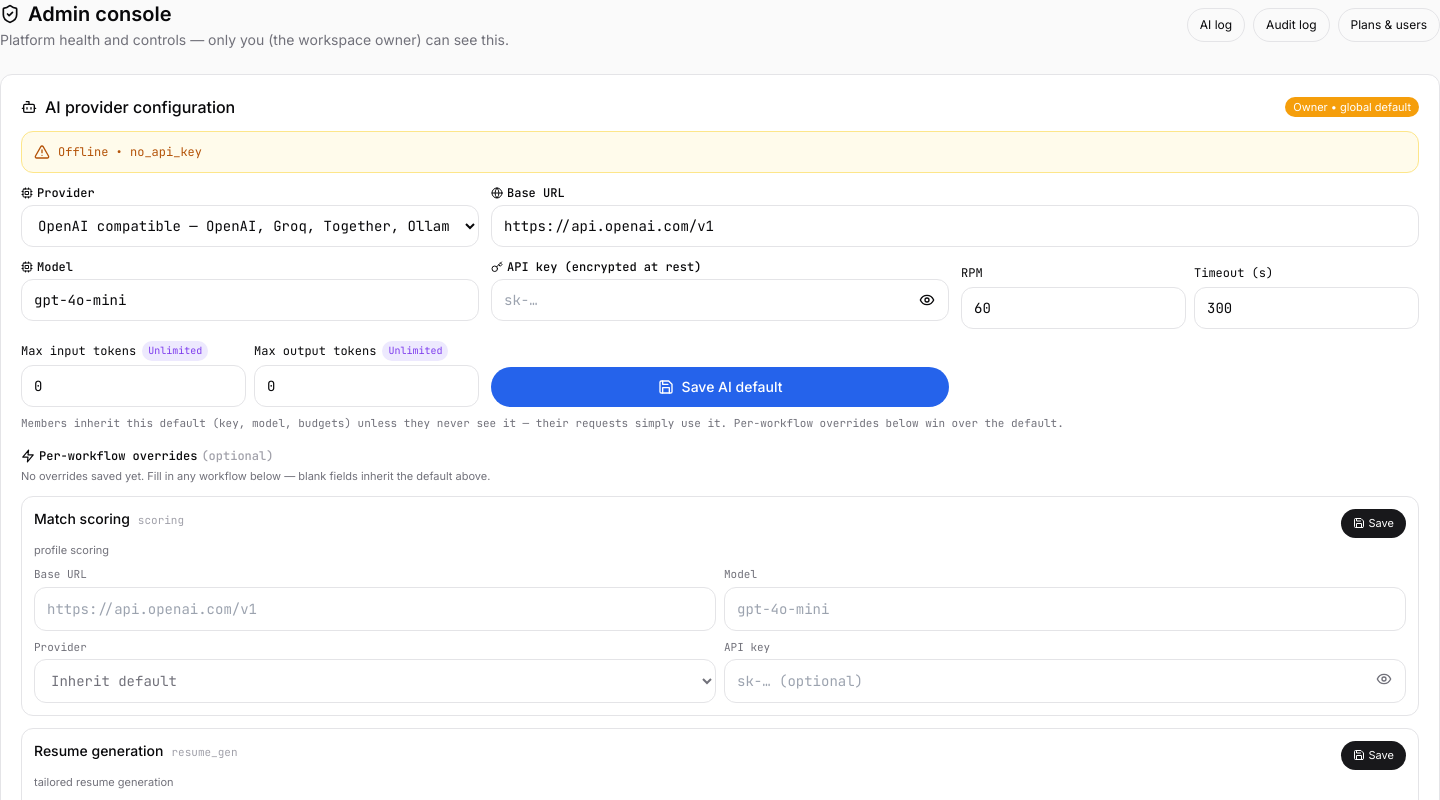
Test case: Admin console: per-workflow overrides › posts the filled override and reloads it as saved
Check: the field named "Model for scoring" is shown, box [724,586,1406,630]
Type "https://api.groq.com/openai/v1" into the field named "Base URL for scoring" at (375, 608), box [34,586,716,630]
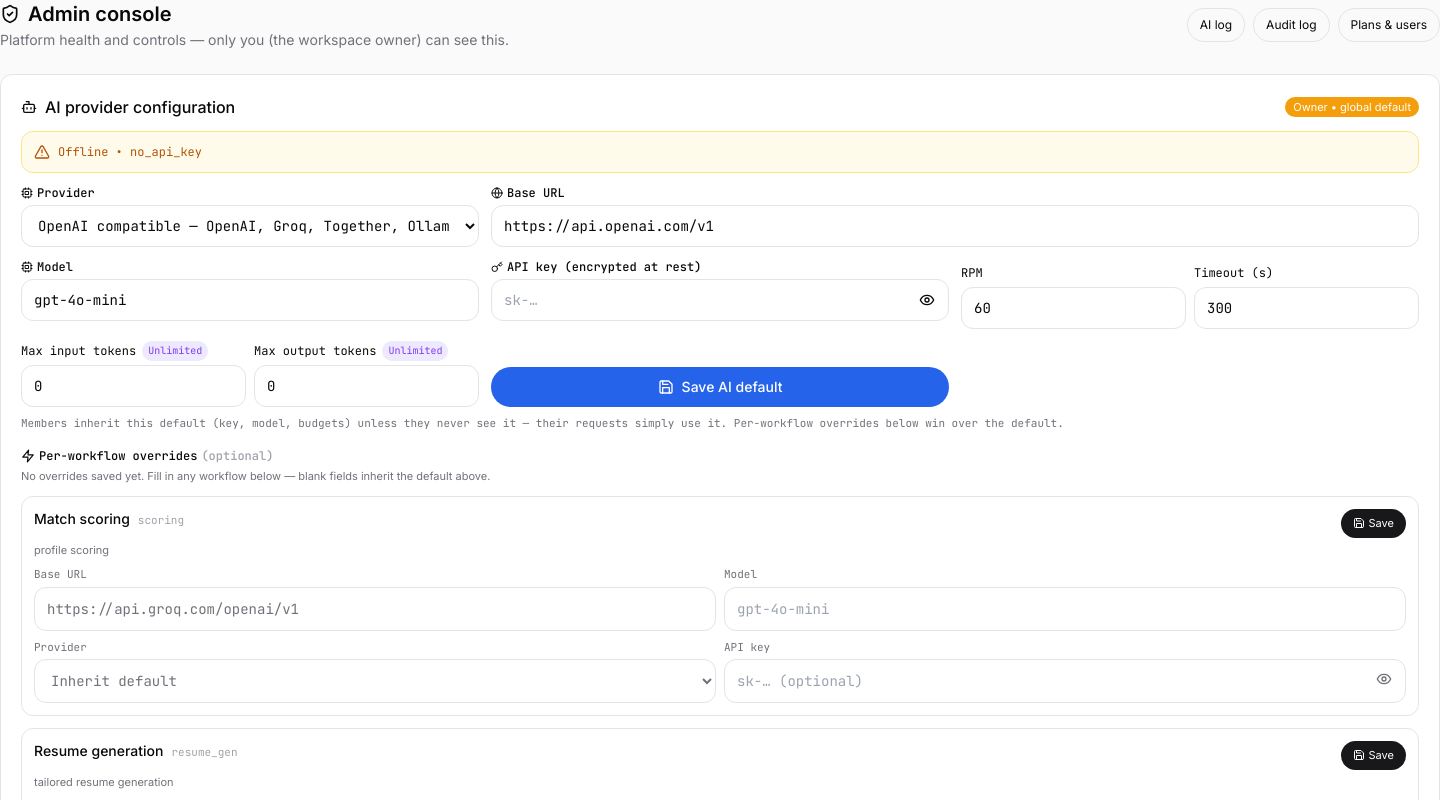
Type "llama-3.1-70b" into the field named "Model for scoring" at (1065, 608), box [724,586,1406,630]
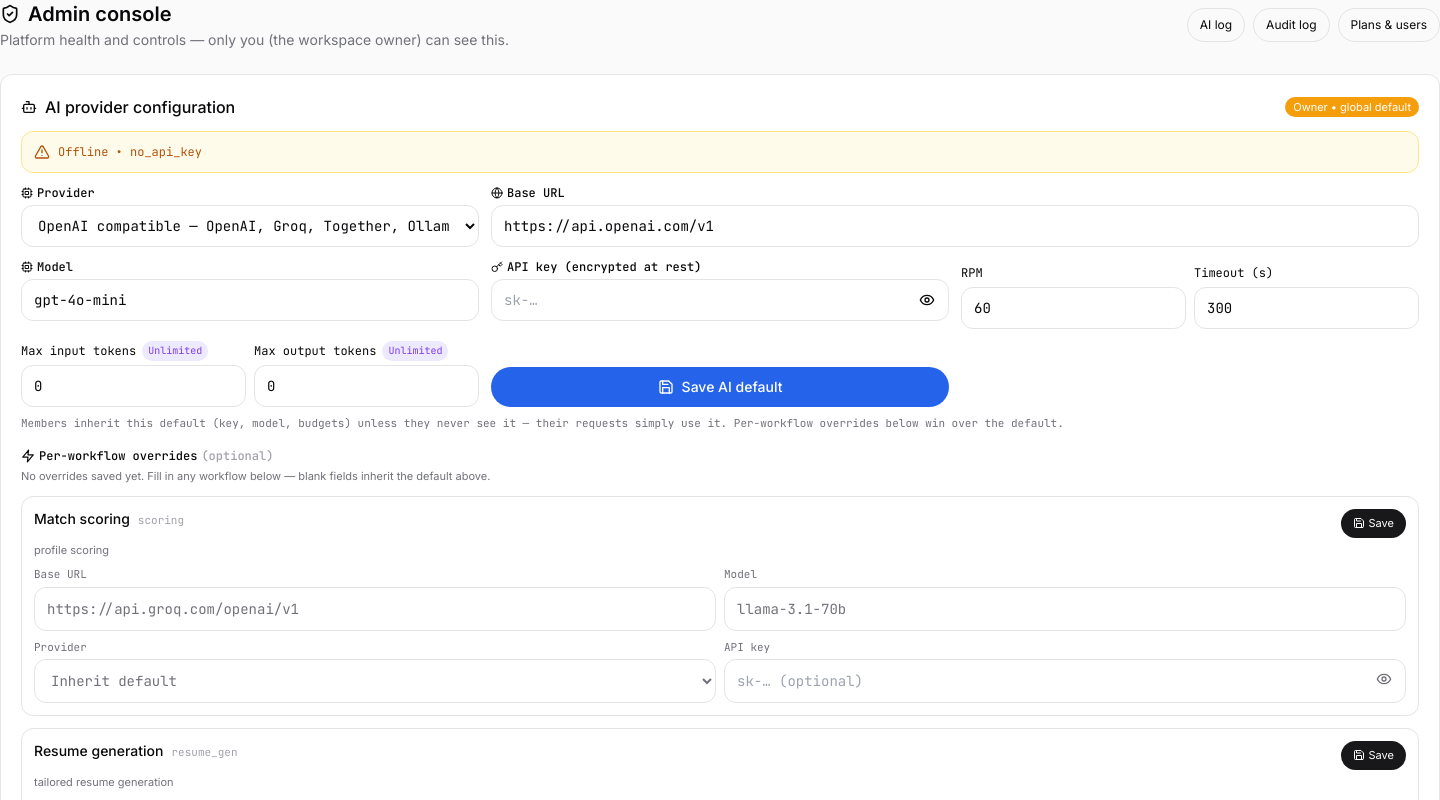
Select "OpenAI compatible" in the dropdown named "Provider for scoring" at (375, 681), box [34,659,716,703]
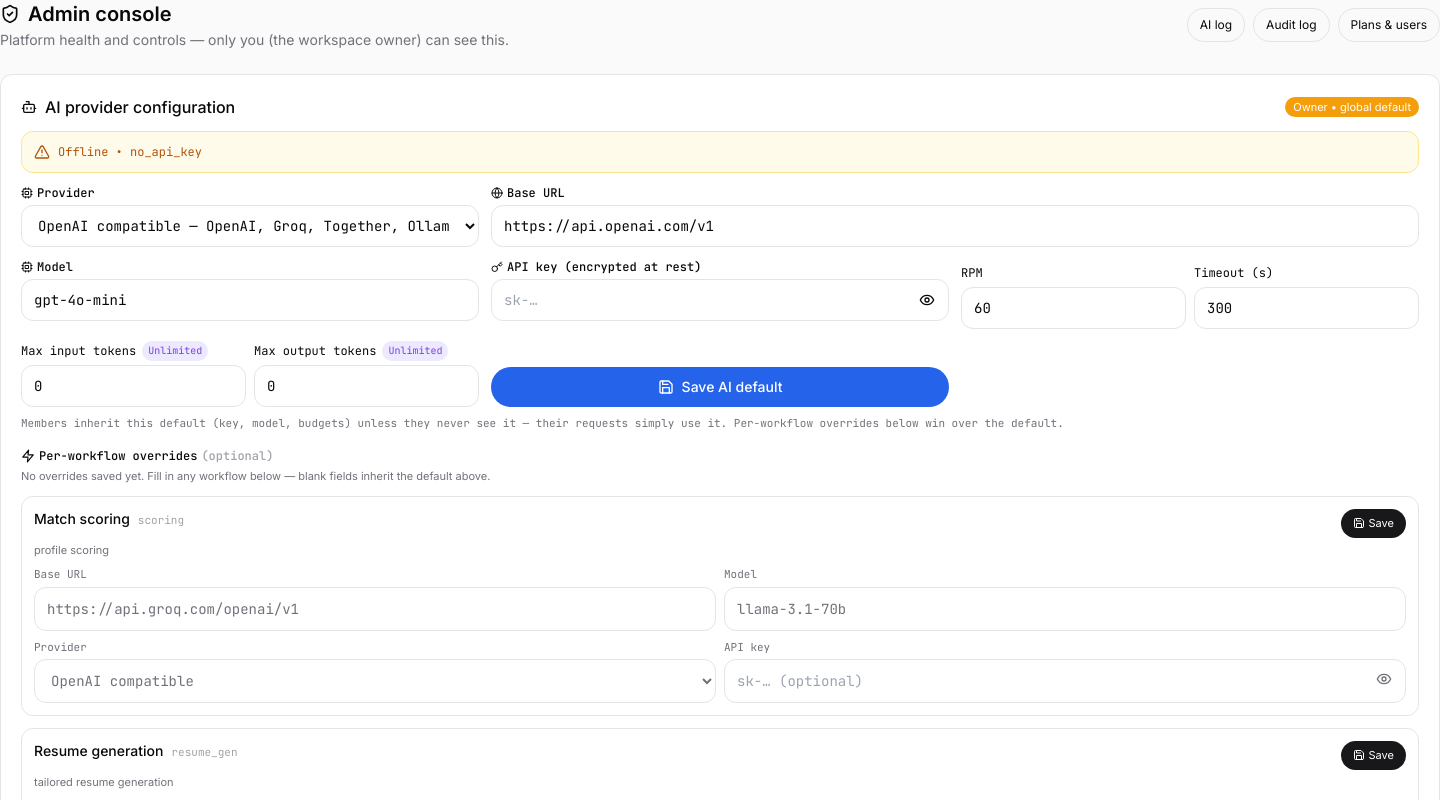
Type "gsk-live-key" into the password field named "API key for scoring" at (1065, 681), box [724,659,1406,703]
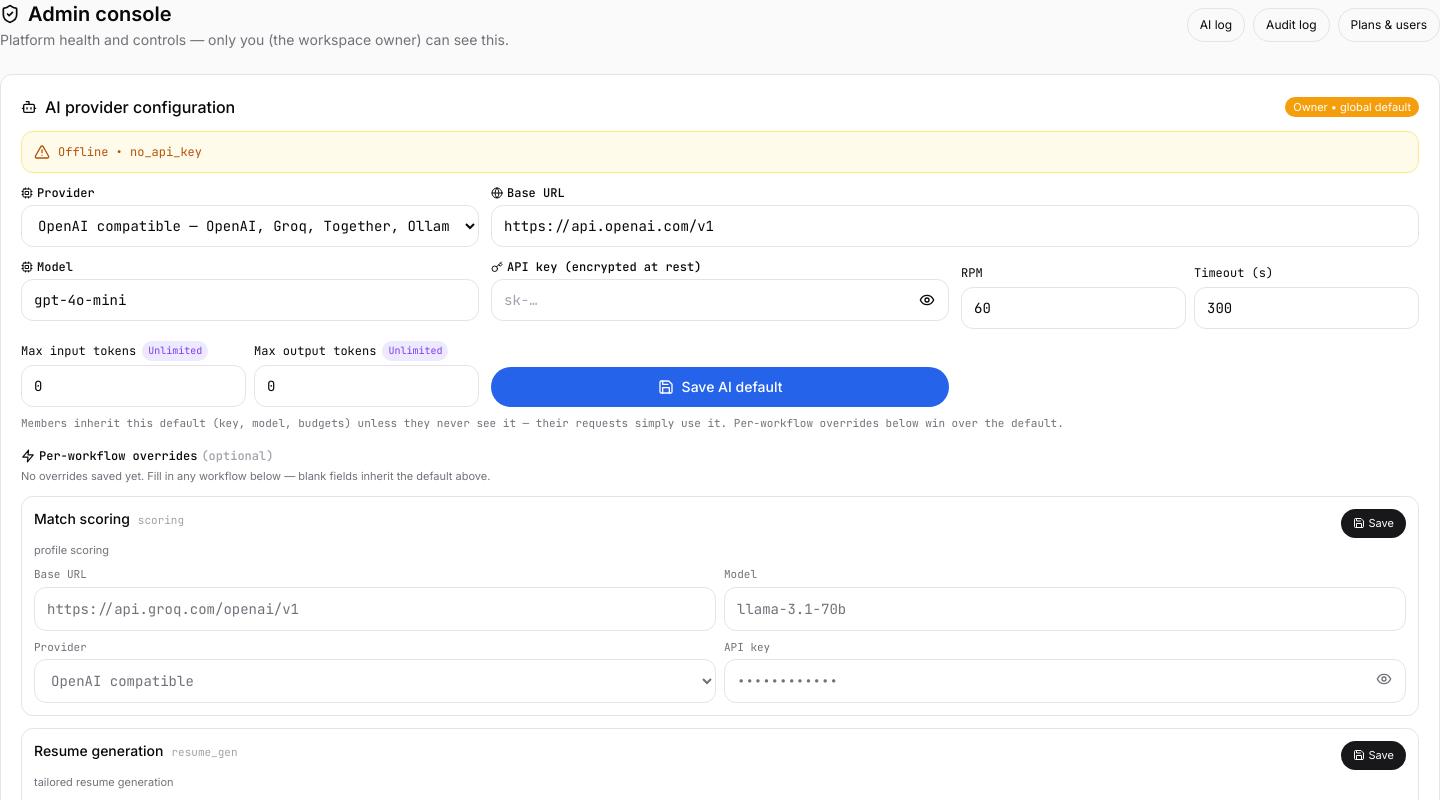
Click the button with aria-label "Save override for scoring" at (1373, 523), box [1340,509,1406,538]
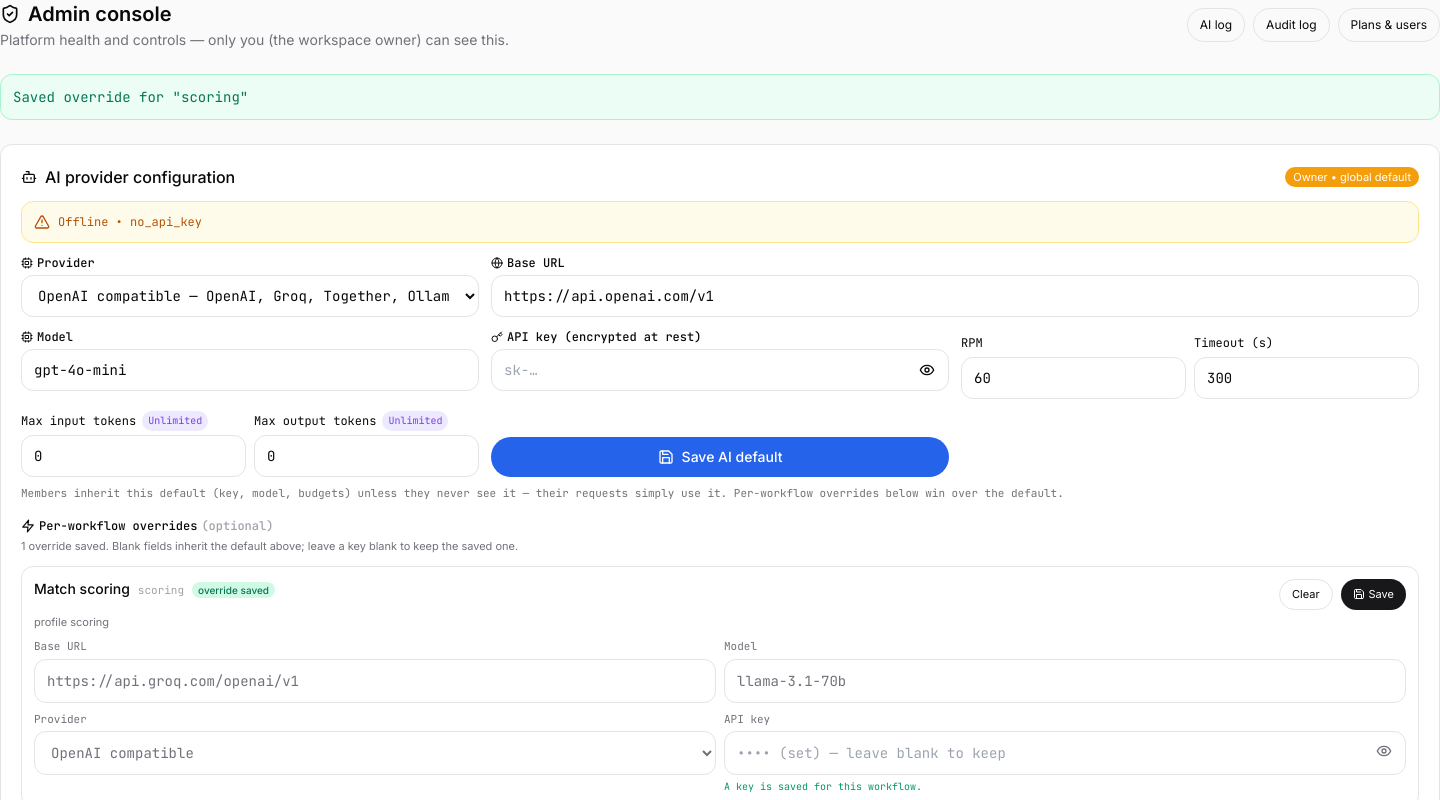
Check: the text "override saved" is shown, box [192,582,275,598]
Check: the password field named "API key for scoring" is empty, box [724,731,1406,775]
Check: the text "A key is saved for this workflow." is shown, box [724,780,922,793]
